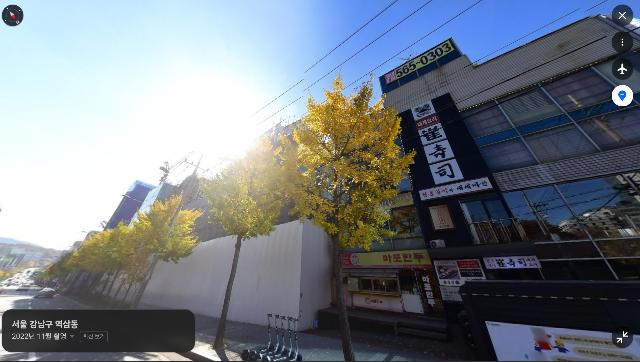ginkgo: (278, 68, 417, 362), (194, 134, 302, 356), (118, 190, 203, 310), (74, 223, 139, 302), (50, 242, 99, 294)
